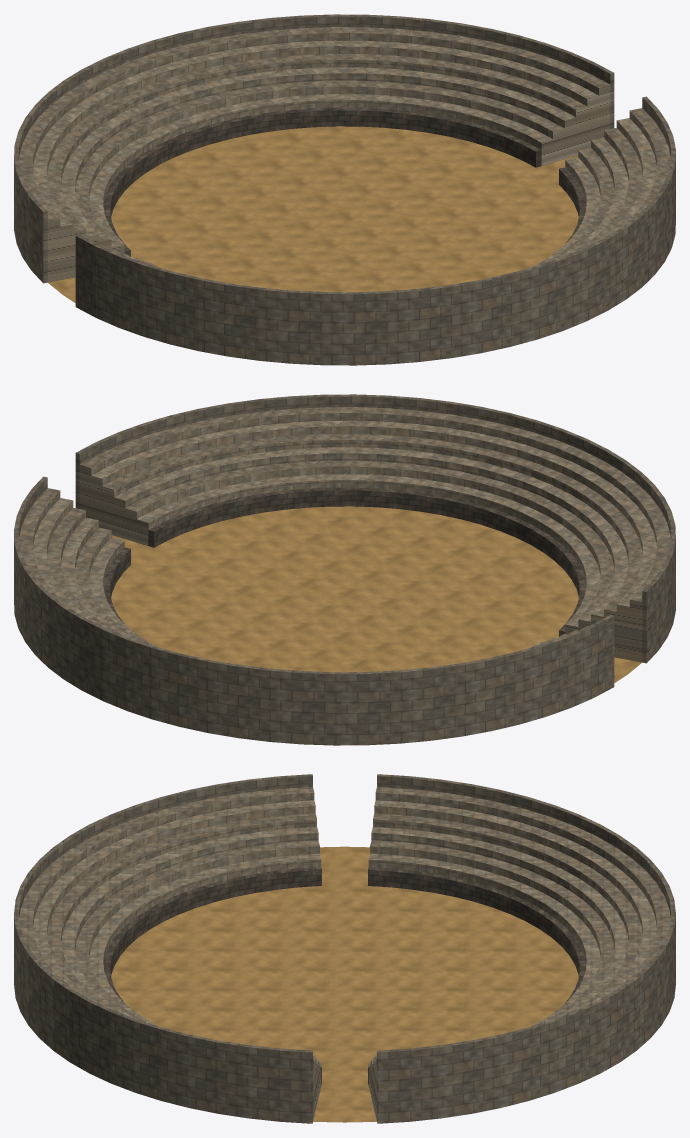
File: arena.gltf
3 renders of one model, top to bottom at view 1: azimuth 30°, elevation 25°; view 2: azimuth 150°, elevation 25°; view 3: azimuth 270°, elevation 25°, orthographic.
Parts seen in each view (by area): view 1: Stands, Floor, Wall; view 2: Stands, Floor, Wall; view 3: Stands, Floor, Wall.
Part boxes in pixels (box(x1,y1,x2,y2)): Stands: box(14, 14, 675, 365); Floor: box(48, 126, 578, 302); Wall: box(103, 107, 586, 256); Stands: box(14, 394, 675, 745); Floor: box(111, 506, 641, 682); Wall: box(103, 487, 586, 636); Stands: box(14, 774, 675, 1123); Floor: box(111, 846, 578, 1122); Wall: box(103, 867, 586, 1084).
Bounding box in the file's own units: 56.13 × 6.7 × 56.4.
Materials: 3 (3 with a texture image).
